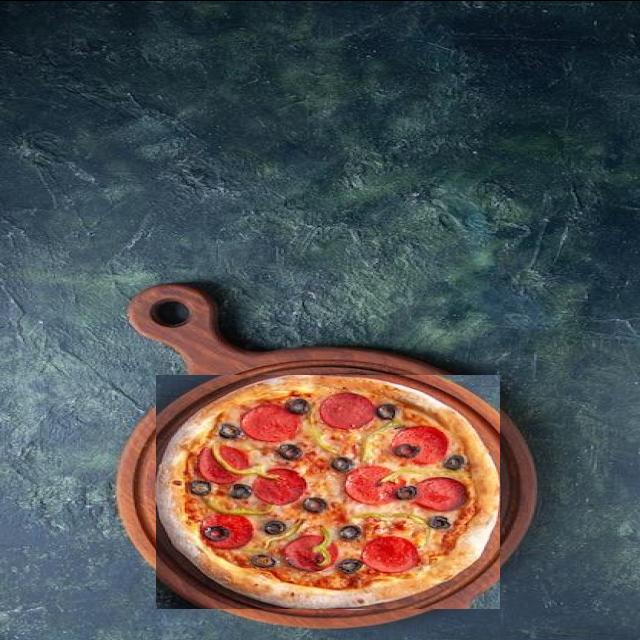olive: (427, 441, 452, 457), (355, 522, 378, 539), (256, 563, 280, 579), (235, 525, 262, 539), (328, 470, 353, 485), (294, 443, 318, 458), (294, 410, 319, 424), (192, 512, 212, 528), (348, 568, 368, 584), (416, 544, 437, 559), (303, 511, 323, 526), (380, 416, 405, 428), (404, 484, 424, 499), (446, 488, 467, 502), (206, 454, 228, 467), (240, 483, 261, 496), (371, 449, 391, 462)
pepperoni: (250, 478, 310, 518), (208, 518, 264, 558), (356, 542, 415, 578), (236, 410, 294, 446), (319, 412, 373, 448), (282, 554, 336, 590), (349, 478, 403, 514), (402, 434, 454, 470), (406, 500, 458, 536), (188, 472, 244, 505)
pizza: (156, 374, 500, 608)
